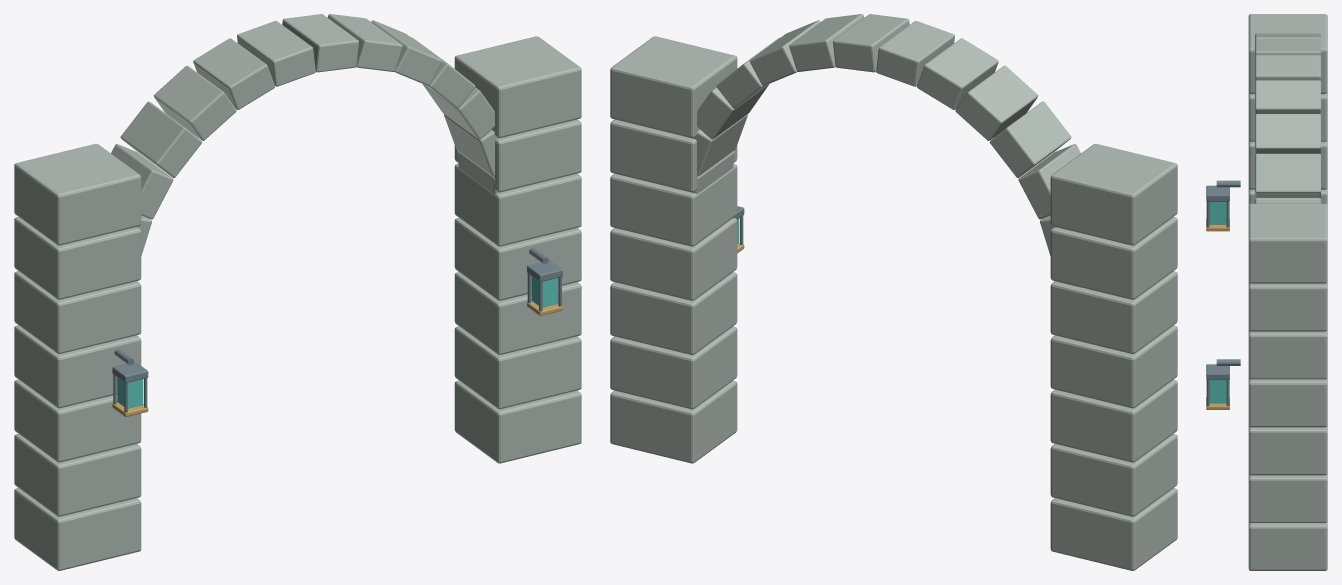
The model's file is a5_gate.glb.
The picture shows the model from 3 angles, left to right: view 1: azimuth 30°, elevation 25°; view 2: azimuth 150°, elevation 25°; view 3: azimuth 270°, elevation 25°; orthographic projection. The views are drawn at different scales.
Parts seen in each view (by area): view 1: Body.053; view 2: Body.053; view 3: Body.053.
Part boxes in pixels (x1,y1,x2,y2): Body.053: (14,14,581,570); Body.053: (610,14,1177,570); Body.053: (1206,14,1327,570).
Size of the model in its own units: 4.05 by 3.39 by 0.92.
